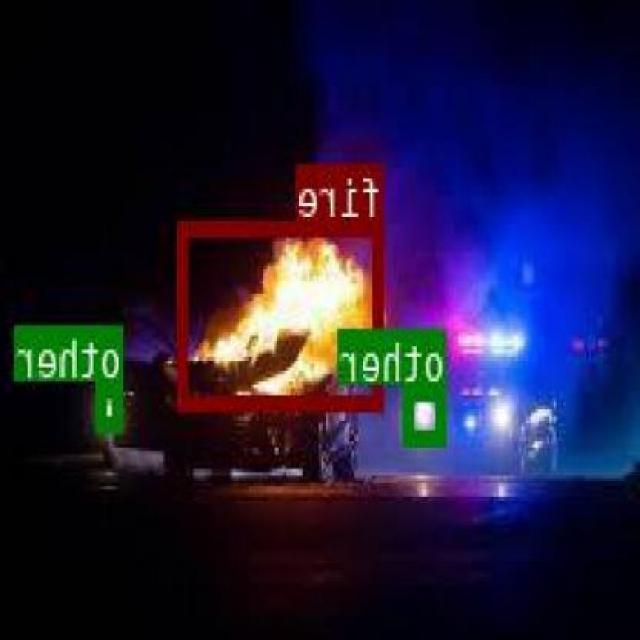Fire: (180, 219, 385, 407)
